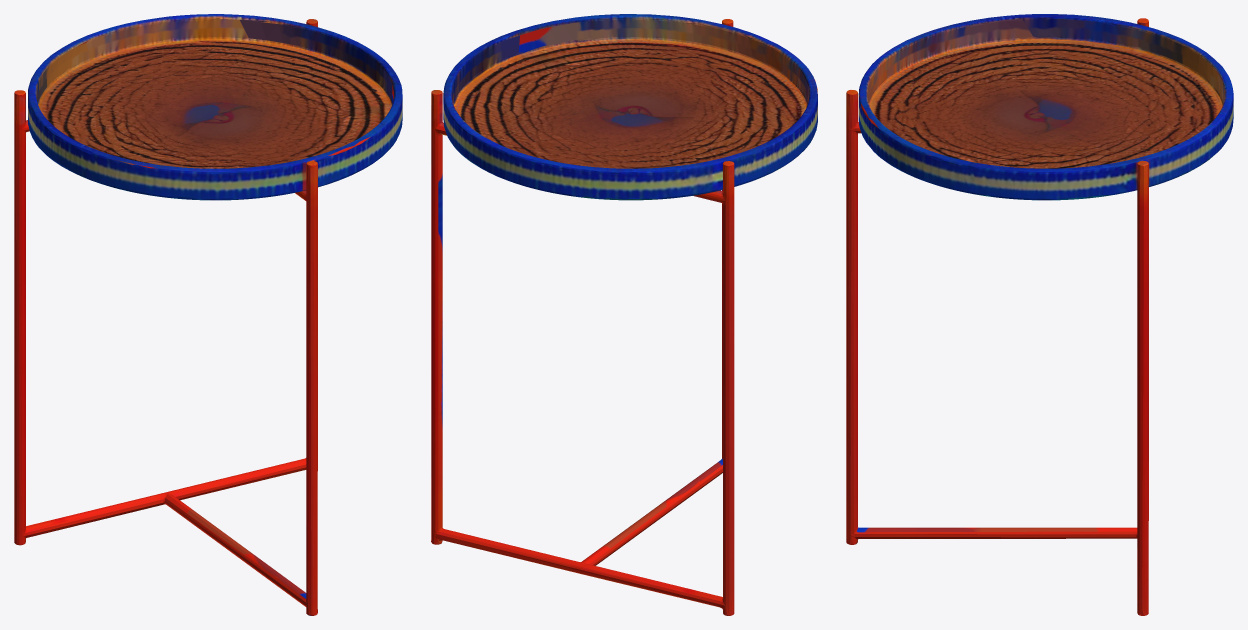
File: edited_mesh.glb
3 renders of one model, left to right at view 1: azimuth 30°, elevation 25°; view 2: azimuth 150°, elevation 25°; view 3: azimuth 270°, elevation 25°, orthographic.
Visible parts, largest first — view 1: normalized_model.obj; view 2: normalized_model.obj; view 3: normalized_model.obj.
Boxes of the visible parts, box(x1,y1,x2,y2) form: normalized_model.obj: box(14, 14, 402, 615); normalized_model.obj: box(431, 14, 817, 615); normalized_model.obj: box(846, 14, 1233, 615).
Size of the model in its own units: 1.09 by 1.44 by 1.12.
Materials: 1 (1 with a texture image).
